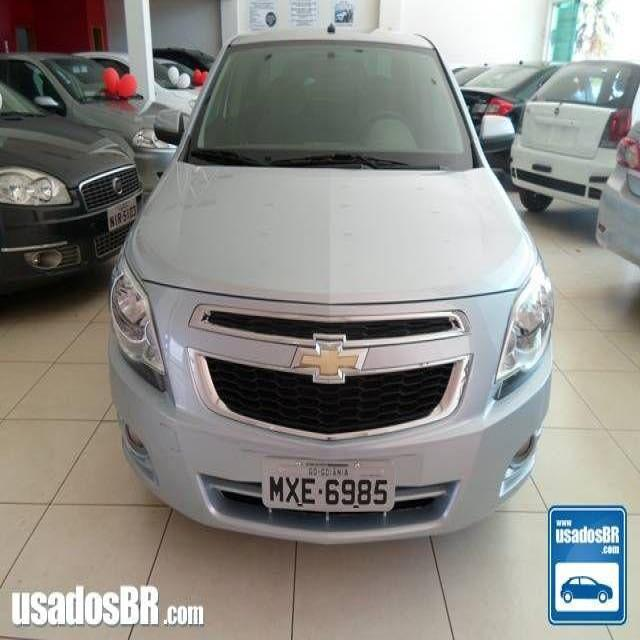Placa: (260, 456, 397, 516)
